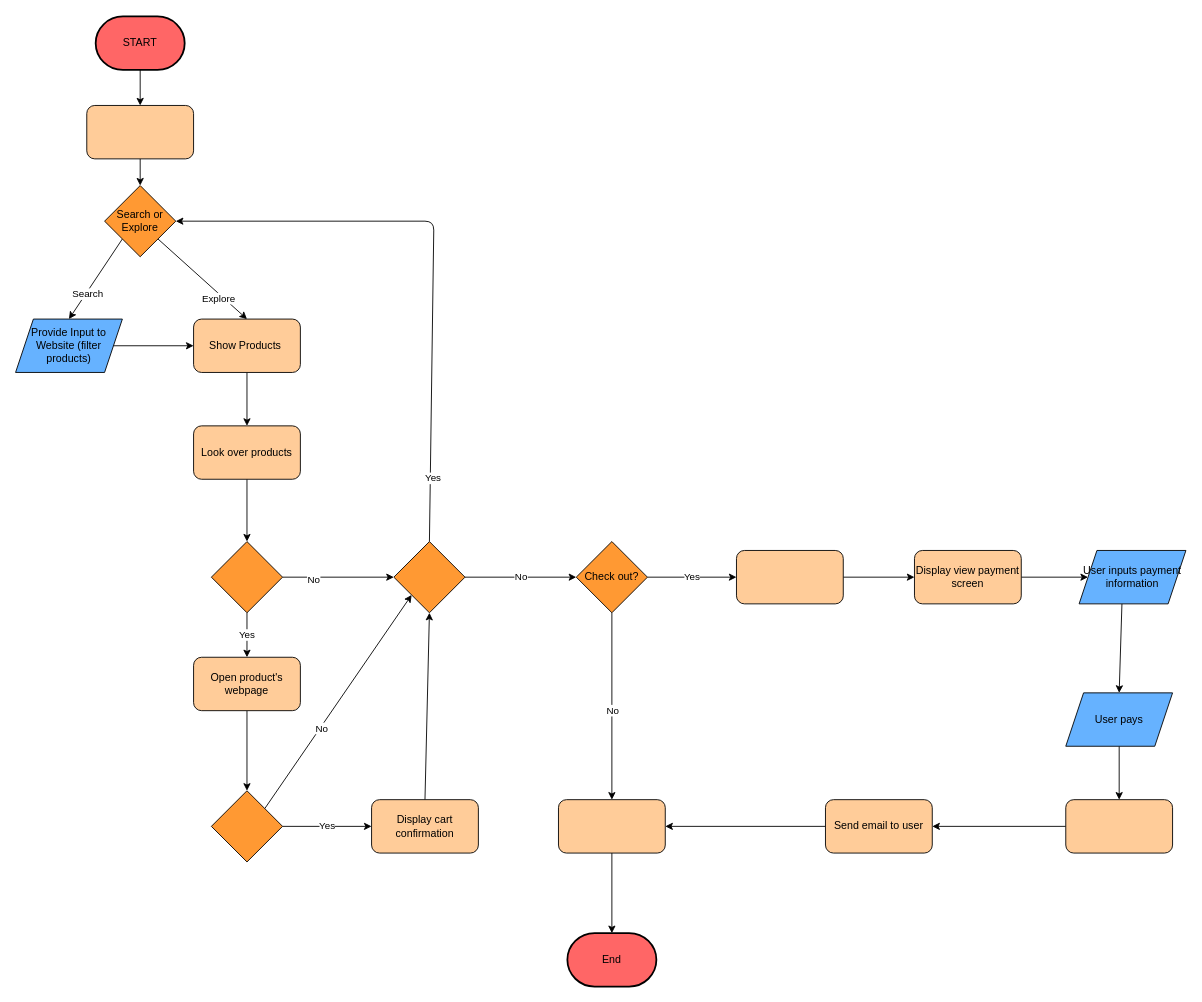
Some shapes in this 1202 by 1002 pixel diagram are drawn without their labels. The shapes that lost their labels are listed below. From the top down, each one's centre as x and y in pixels, then its label:
point (140, 132): Enter Website
point (246, 577): View specific product
point (429, 577): Continue shopping?
point (789, 577): Display view cart screen
point (246, 826): Add to cart?
point (611, 826): Exit website
point (1119, 826): Display order confirmation screen
